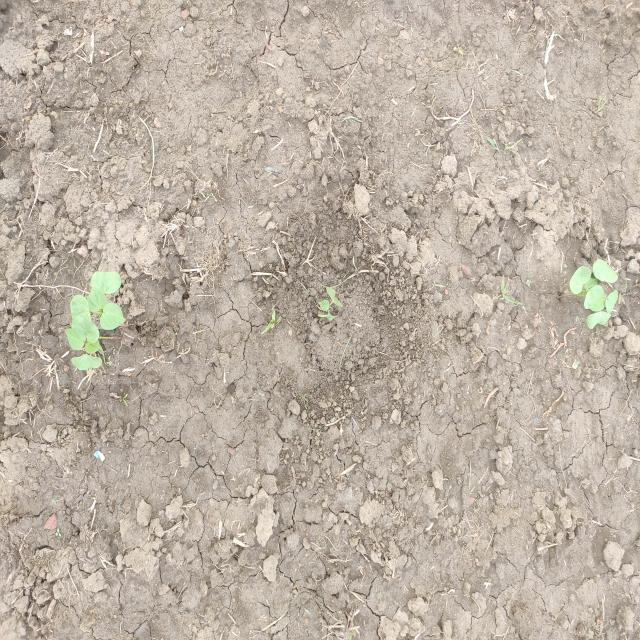seedling: (71, 316, 99, 343), (90, 271, 121, 294), (100, 303, 125, 330), (569, 266, 591, 294), (593, 259, 618, 283), (70, 295, 91, 322), (64, 328, 86, 351), (71, 354, 102, 370), (87, 287, 106, 313), (584, 285, 603, 309), (586, 311, 611, 329), (326, 288, 343, 307), (605, 290, 618, 313), (85, 339, 101, 354), (589, 297, 605, 312), (584, 278, 598, 291), (318, 314, 337, 321), (318, 299, 330, 310)
